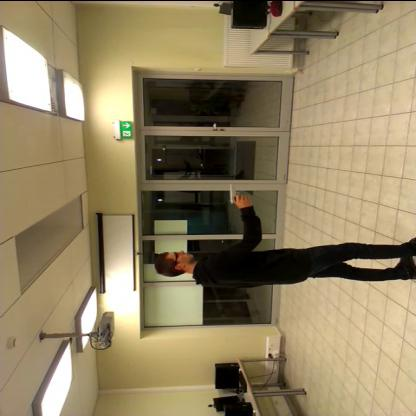Pistol: (224, 182, 248, 204)
